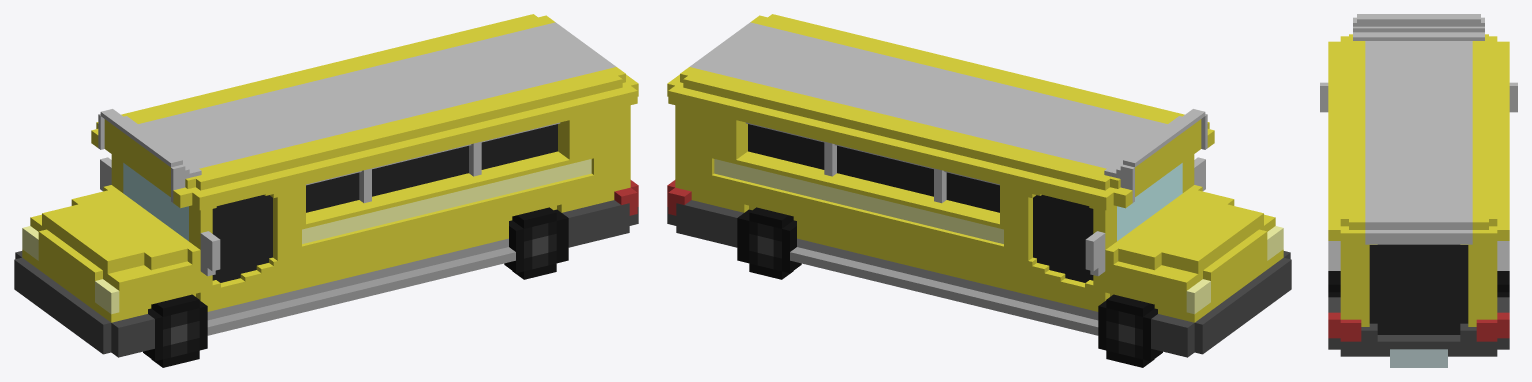
The model's file is Jeep.fbx.
3 renders of one model, left to right at view 1: azimuth 30°, elevation 25°; view 2: azimuth 150°, elevation 25°; view 3: azimuth 270°, elevation 25°, orthographic. The views are drawn at different scales.
Visible parts, largest first — view 1: Untitled.002; view 2: Untitled.002; view 3: Untitled.002.
Boxes of the visible parts, x1,y1,x2,y2 form: Untitled.002: (14,14,638,367); Untitled.002: (667,14,1291,367); Untitled.002: (1320,14,1517,367).
Size of the model in its own units: 1320 by 440 by 480.
Materials: 1 (1 with a texture image).
